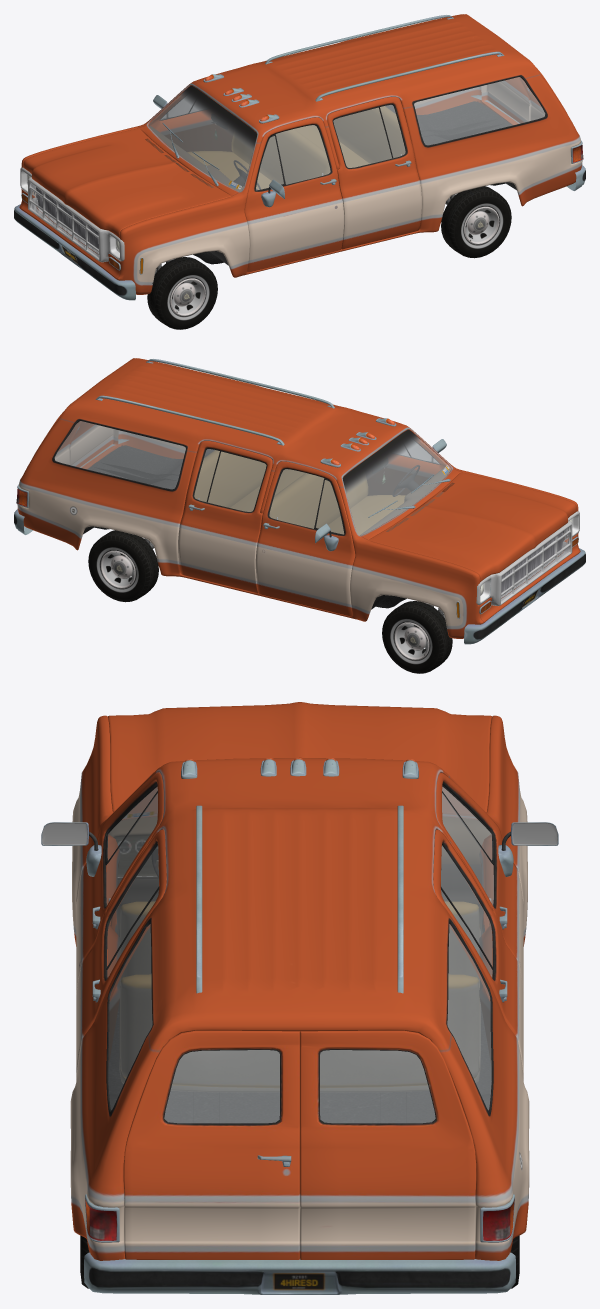
3 renders of one model, top to bottom at view 1: azimuth 30°, elevation 25°; view 2: azimuth 150°, elevation 25°; view 3: azimuth 270°, elevation 25°, orthographic. The views are drawn at different scales.
Visible parts, largest first — view 1: body_low.001, hood_low.001, frontdoors_low.001, passdoors_low.001, frontwindow_low.001, windowback_low.001, frontrigthw_low.001, frontgrill_low.001, Passwindows_low.001, seatback_low.002, fronttire_low.002, fronttire_low.003 (+14 smaller); view 2: body_low.001, hood_low.001, frontdoors_low.001, passdoors_low.001, frontwindow_low.001, windowback_low.001, frontrigthw_low.001, frontgrill_low.001, Passwindows_low.001, seatback_low.002, fronttire_low.002, fronttire_low.003 (+14 smaller); view 3: body_low.001, backdoor_low.001, hood_low.001, backdoorwin_low.001, bumperback_low.001, seatback_low.003, windowback_low.001, floor_low.001, passdoors_low.001, frontdoors_low.001, frontrigthw_low.001, Passwindows_low.001 (+11 smaller).
Part boxes in pixels (box(x1,y1,x2,y2)): body_low.001: box(19, 14, 582, 294); hood_low.001: box(23, 128, 231, 237); frontdoors_low.001: box(145, 112, 344, 272); passdoors_low.001: box(327, 97, 421, 249); frontwindow_low.001: box(148, 86, 256, 191); windowback_low.001: box(414, 77, 545, 145); frontrigthw_low.001: box(161, 99, 330, 190); frontgrill_low.001: box(20, 167, 124, 262); Passwindows_low.001: box(333, 105, 405, 167); seatback_low.002: box(232, 129, 330, 184); fronttire_low.002: box(147, 257, 217, 329); fronttire_low.003: box(441, 186, 511, 258); body_low.001: box(17, 358, 580, 638); hood_low.001: box(368, 472, 576, 581); frontdoors_low.001: box(255, 461, 449, 616); passdoors_low.001: box(178, 441, 272, 593); frontwindow_low.001: box(343, 430, 451, 535); windowback_low.001: box(55, 421, 185, 489); frontrigthw_low.001: box(269, 443, 438, 534); frontgrill_low.001: box(476, 511, 579, 606); Passwindows_low.001: box(194, 449, 266, 511); seatback_low.002: box(269, 473, 367, 528); fronttire_low.002: box(382, 601, 452, 673); fronttire_low.003: box(88, 530, 158, 602); body_low.001: box(70, 715, 529, 1260); backdoor_low.001: box(123, 1030, 476, 1259); hood_low.001: box(108, 702, 491, 813); backdoorwin_low.001: box(164, 1050, 435, 1123); bumperback_low.001: box(84, 1252, 515, 1294); seatback_low.003: box(120, 974, 479, 1087); windowback_low.001: box(108, 924, 491, 1110); floor_low.001: box(108, 1001, 491, 1198); passdoors_low.001: box(76, 829, 523, 1076); frontdoors_low.001: box(76, 773, 523, 992); frontrigthw_low.001: box(106, 787, 493, 905); Passwindows_low.001: box(107, 845, 492, 977).
Bounding box in the file's own units: 4.35 × 1.55 × 2.06.
Materials: 3 (3 with a texture image).
